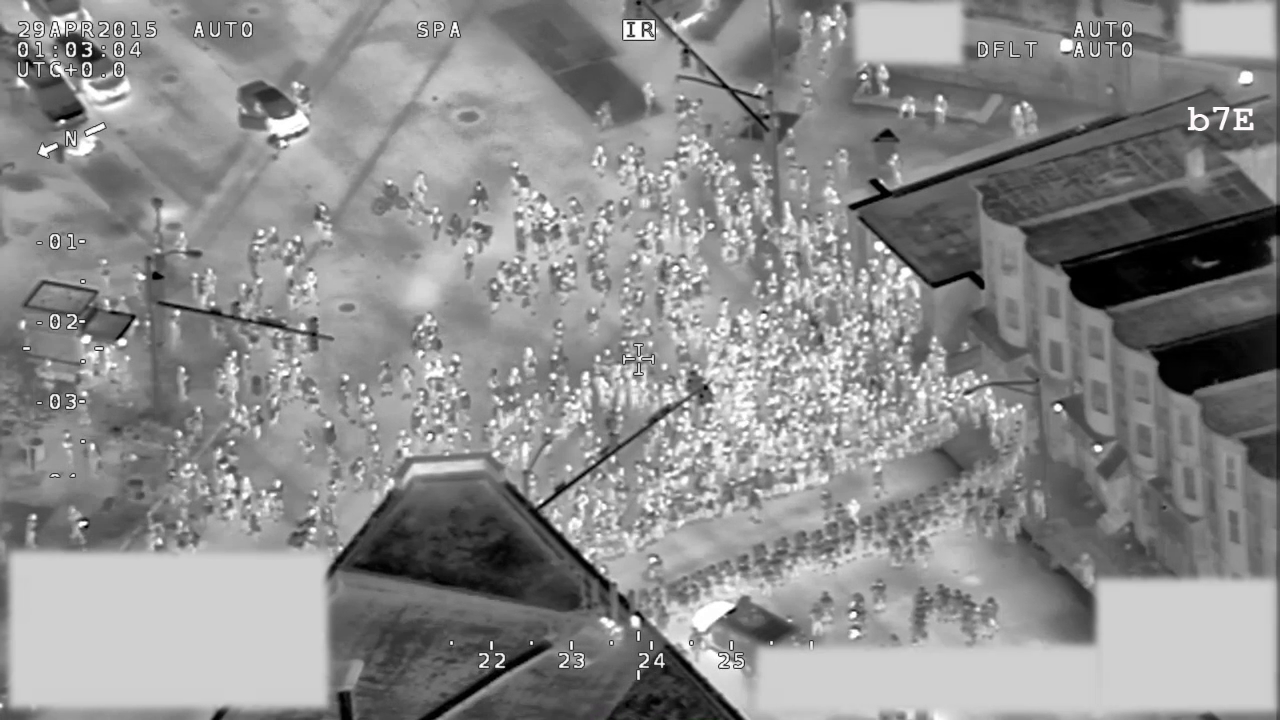vehicle: (686, 592, 804, 680), (1, 33, 89, 146), (49, 30, 132, 109), (232, 78, 315, 150)
